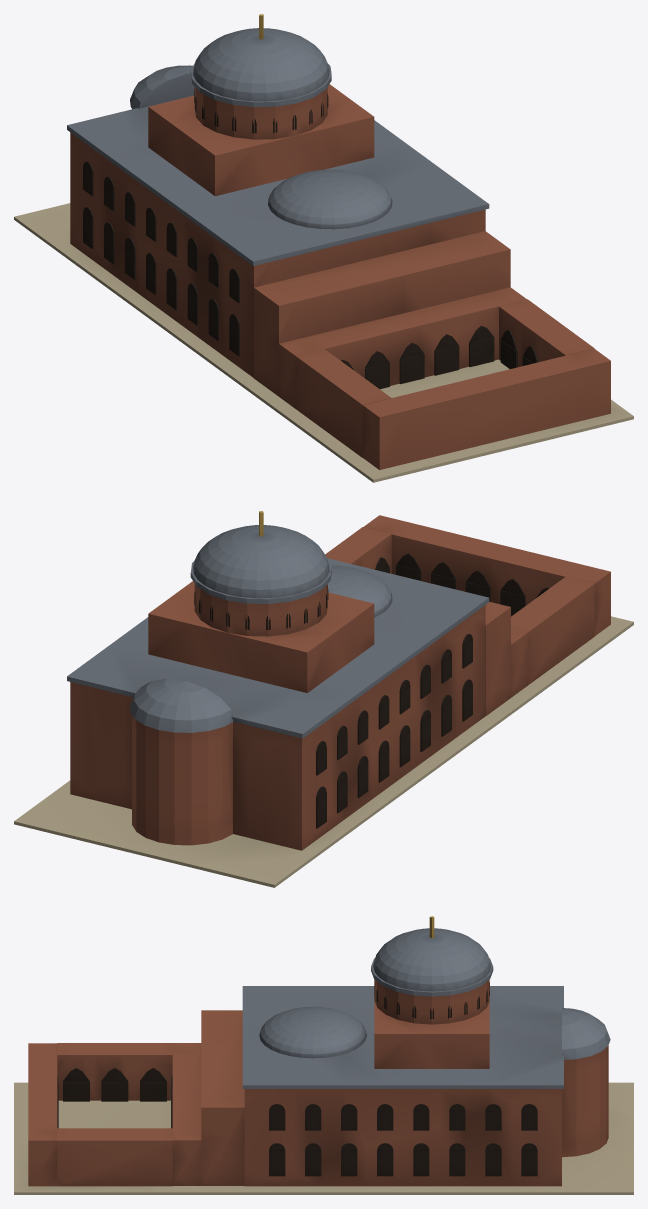
The model's file is hagia-irene.glb.
3 views of the same model, one above another, from view 1: azimuth 30°, elevation 25°; view 2: azimuth 150°, elevation 25°; view 3: azimuth 270°, elevation 25° (orthographic). The views are drawn at different scales.
Parts seen in each view (by area): view 1: p0_body, p1_domes; view 2: p0_body, p1_domes; view 3: p0_body, p1_domes.
Boxes of the visible parts, x1=… form: p0_body: x1=14, y1=95, x2=633, y2=482; p1_domes: x1=130, y1=14, x2=392, y2=229; p0_body: x1=14, y1=515, x2=633, y2=887; p1_domes: x1=130, y1=511, x2=392, y2=845; p0_body: x1=14, y1=986, x2=633, y2=1194; p1_domes: x1=259, y1=916, x2=610, y2=1157.
Bounding box in the file's own units: 36 × 34.13 × 86.
